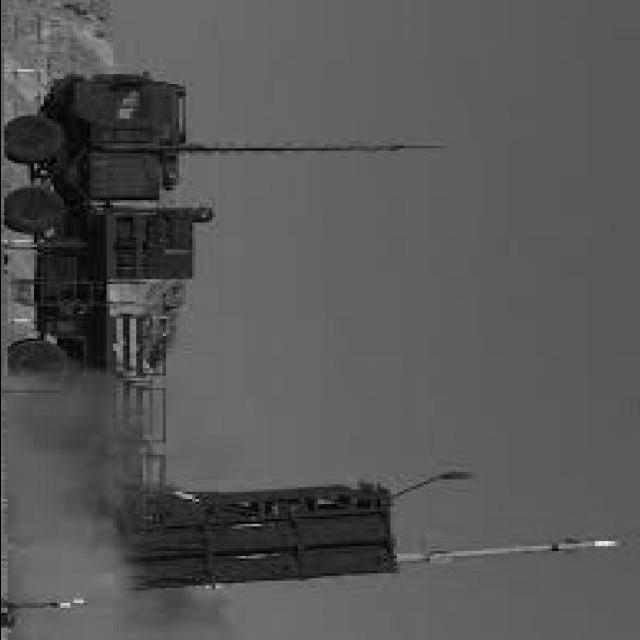missile: (393, 534, 629, 570)
